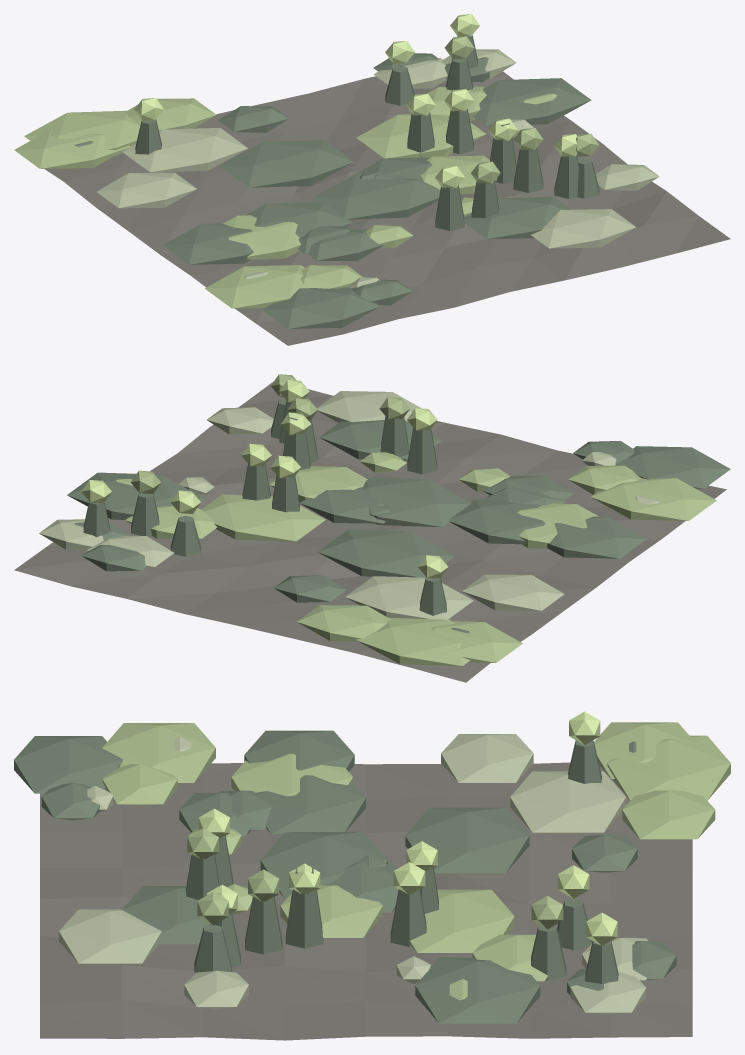
Rendered from hunger_moss_colony.glb.
The picture shows the model from 3 angles, top to bottom: view 1: azimuth 30°, elevation 25°; view 2: azimuth 150°, elevation 25°; view 3: azimuth 270°, elevation 25°; orthographic projection. The views are drawn at different scales.
Parts seen in each view (by area): view 1: material_00, material_01, material_02, material_03, material_04; view 2: material_00, material_01, material_02, material_03, material_04; view 3: material_00, material_01, material_02, material_03, material_04.
Part boxes in pixels (x1,y1,x2,y2): material_00: (45, 71, 730, 345); material_01: (74, 35, 599, 328); material_02: (14, 36, 599, 308); material_03: (96, 49, 659, 287); material_04: (134, 14, 577, 188); material_00: (14, 381, 726, 682); material_01: (67, 398, 730, 633); material_02: (116, 374, 716, 666); material_03: (39, 391, 658, 619); material_04: (81, 380, 448, 578); material_00: (40, 762, 692, 1040); material_01: (14, 730, 676, 1023); material_02: (102, 722, 730, 1000); material_03: (59, 734, 648, 1013); material_04: (198, 711, 617, 945).
Bounding box in the file's own units: 3.28 × 0.4982 × 3.3.
